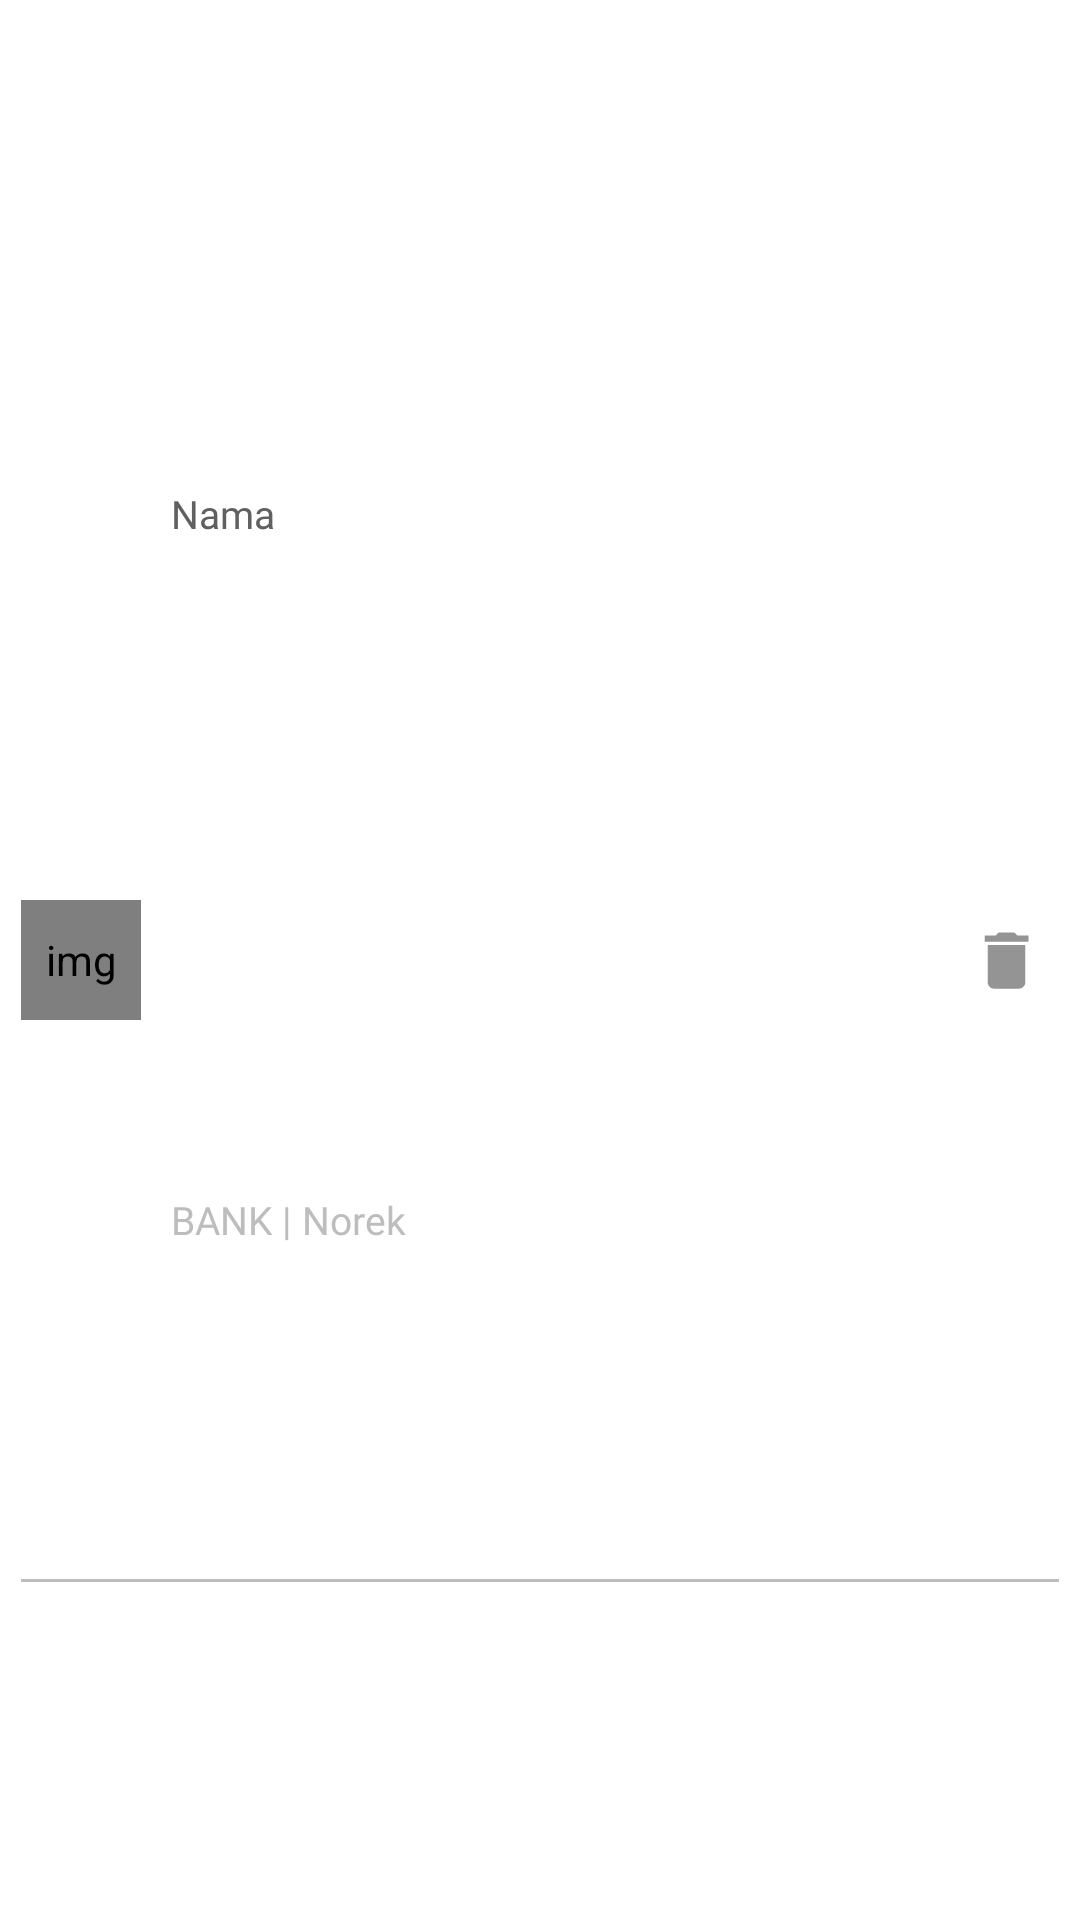

Point at icon controls on the screen. Image size 1080x1920, points as point (x, y).
del: point (1006, 960)
